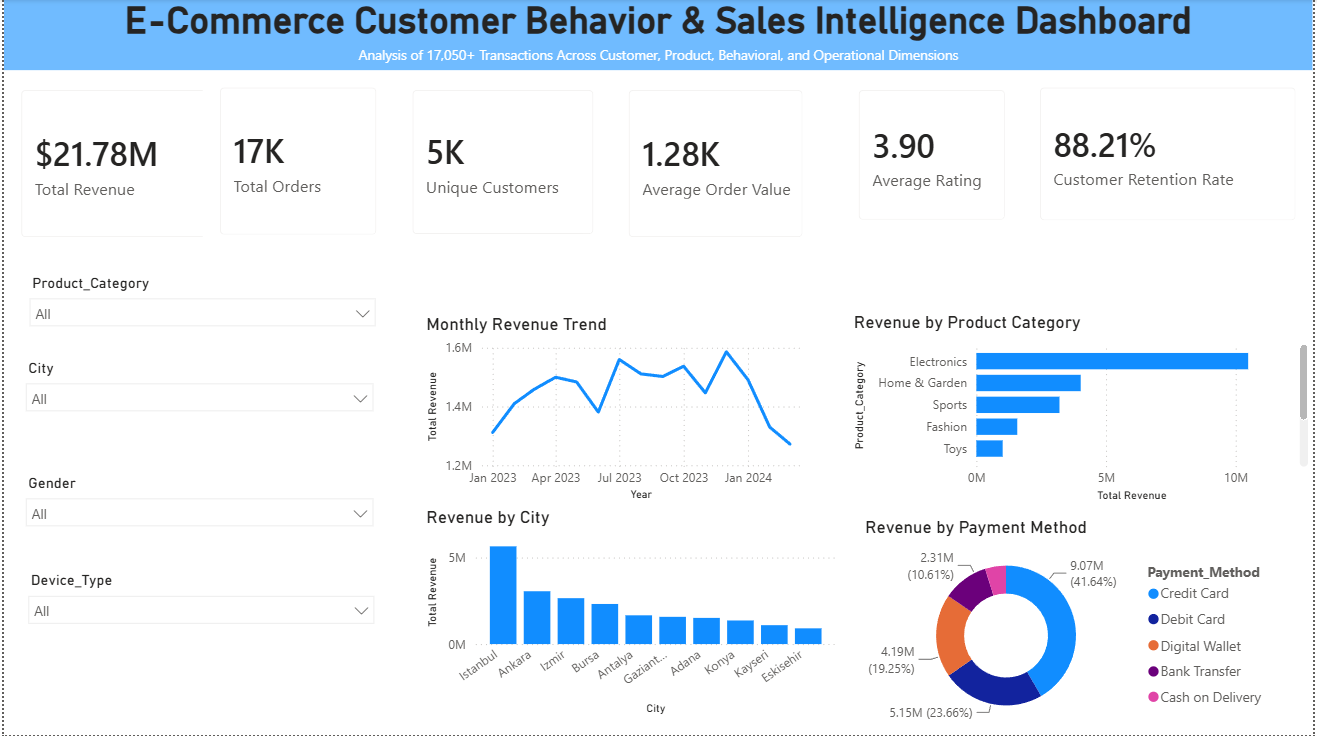

Layout of this report page (visuals, bound fields, positions):
{"tool":"powerbi","page":{"name":"Page 1","canvas":[1280,720],"ordinal":0},"visuals":[{"type":"cardVisual","fields":{"Data":["Ecom.Total Revenue"]},"box":[0,72.7,248.4,178.4],"z":0},{"type":"cardVisual","fields":{"Data":["Ecom.Total Orders"]},"box":[194.9,70,188,178.4],"z":1000},{"type":"cardVisual","fields":{"Data":["Ecom.Unique Customers"]},"box":[382.8,72.7,211.3,175.6],"z":2000},{"type":"cardVisual","fields":{"Data":["Ecom.Average Order Value"]},"box":[594.2,72.7,204.5,178.4],"z":3000},{"type":"cardVisual","fields":{"Data":["Ecom.Average Rating"]},"box":[819.2,72.7,177,161.9],"z":4000},{"type":"cardVisual","fields":{"Data":["Ecom.Returning Customer Rate"]},"box":[996.2,70,284,164.7],"z":5000},{"type":"lineChart","title":"Monthly Revenue Trend","fields":{"Y":["Ecom.Total Revenue"],"Category":["Ecom.Date.Variation.Date Hierarchy.Year","Ecom.Date.Variation.Date Hierarchy.Month"]},"box":[408.9,308.7,389.7,188],"z":6000},{"type":"clusteredBarChart","title":"Revenue by Product Category","fields":{"Category":["Ecom.Product_Category"],"Y":["Ecom.Total Revenue"]},"box":[826.1,306,454.2,190.7],"z":7000},{"type":"columnChart","title":"Revenue by City","fields":{"Category":["Ecom.City"],"Y":["Ecom.Total Revenue"]},"box":[408.9,496.7,410.3,208.6],"z":8000},{"type":"donutChart","title":"Revenue by Payment Method","fields":{"Category":["Ecom.Payment_Method"],"Y":["Ecom.Total Revenue"]},"box":[837.1,506.3,411.7,214.1],"z":9000},{"type":"slicer","fields":{"Values":["Ecom.Product_Category"]},"box":[14.3,264.3,358.6,82.9],"z":10000},{"type":"slicer","fields":{"Values":["Ecom.City"]},"box":[11.4,347.1,360,80],"z":11000},{"type":"slicer","fields":{"Values":["Ecom.Gender"]},"box":[11.4,460,360,74.3],"z":12000},{"type":"slicer","fields":{"Values":["Ecom.Device_Type"]},"box":[12.9,555.7,358.6,72.9],"z":13000},{"type":"textbox","title":"E-Commerce Customer Behavior & Sales Intelligence Dashboard","box":[0,0,1280.3,69.7],"z":14000}]}

Visuals, with their boxes in screenshot pixels (x1, y1, x2, y2), scaled from the page's 1280x720 canvas onto the 1317x736 screenshot:
cardVisual - Ecom.Total Revenue: l=0, t=74, r=256, b=257
cardVisual - Ecom.Total Orders: l=201, t=72, r=394, b=254
cardVisual - Ecom.Unique Customers: l=394, t=74, r=611, b=254
cardVisual - Ecom.Average Order Value: l=611, t=74, r=822, b=257
cardVisual - Ecom.Average Rating: l=843, t=74, r=1025, b=240
cardVisual - Ecom.Returning Customer Rate: l=1025, t=72, r=1316, b=240
"Monthly Revenue Trend" lineChart: l=421, t=316, r=822, b=508
"Revenue by Product Category" clusteredBarChart: l=850, t=313, r=1316, b=508
"Revenue by City" columnChart: l=421, t=508, r=843, b=721
"Revenue by Payment Method" donutChart: l=861, t=518, r=1285, b=735
slicer - Ecom.Product_Category: l=15, t=270, r=384, b=355
slicer - Ecom.City: l=12, t=355, r=382, b=437
slicer - Ecom.Gender: l=12, t=470, r=382, b=546
slicer - Ecom.Device_Type: l=13, t=568, r=382, b=643
"E-Commerce Customer Behavior & Sales Intelligence Dashboard" textbox: l=0, t=0, r=1316, b=71
